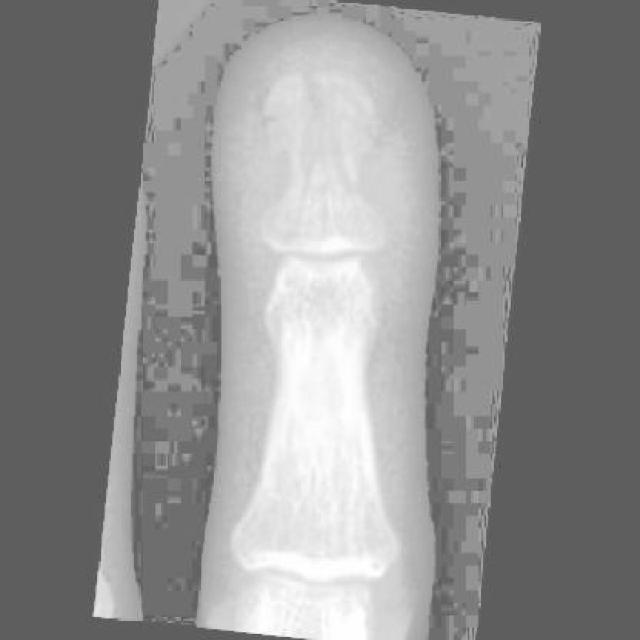Fracture: (253, 54, 399, 200)
